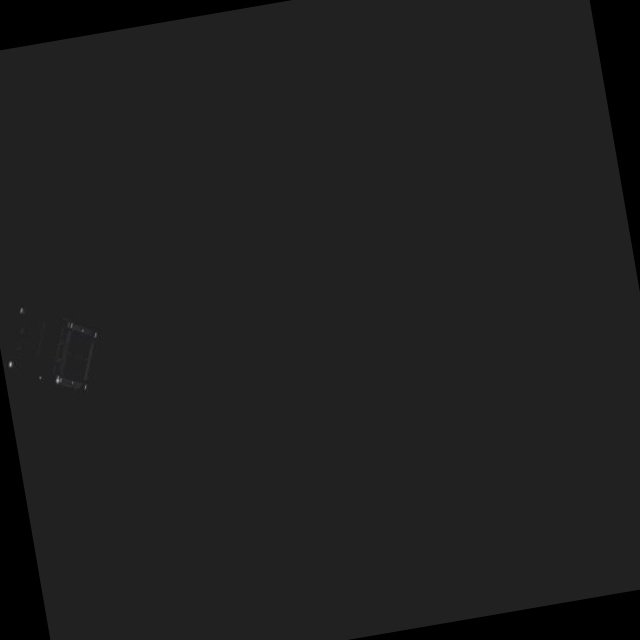medium_debris: (0, 291, 113, 413)
